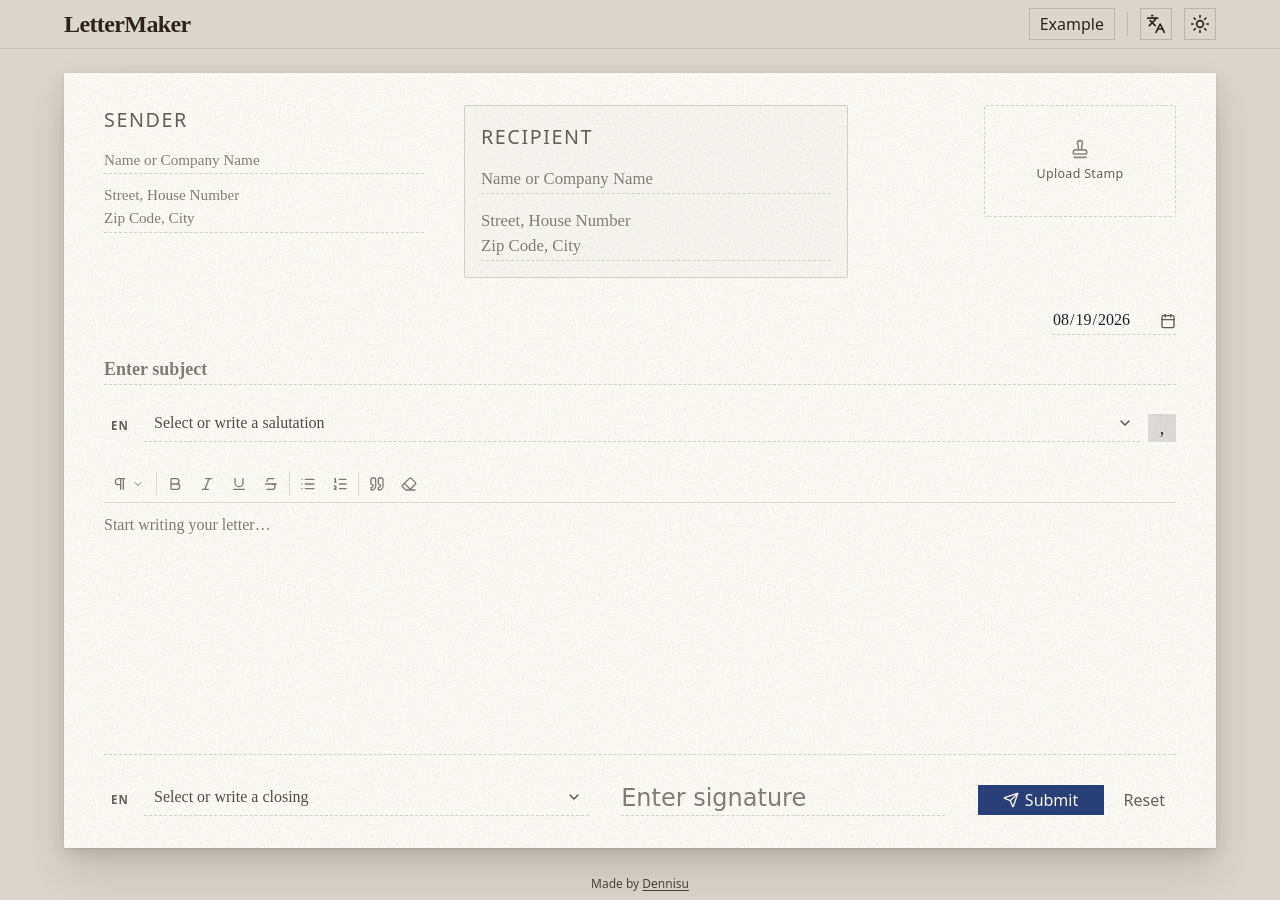
LetterMaker › fills and resets the complete example letter
What coordinates should you click on to do the following:
click the button "Example"
I would click on:
 (1072, 24)
Its box is 1029,8 -> 1115,40.
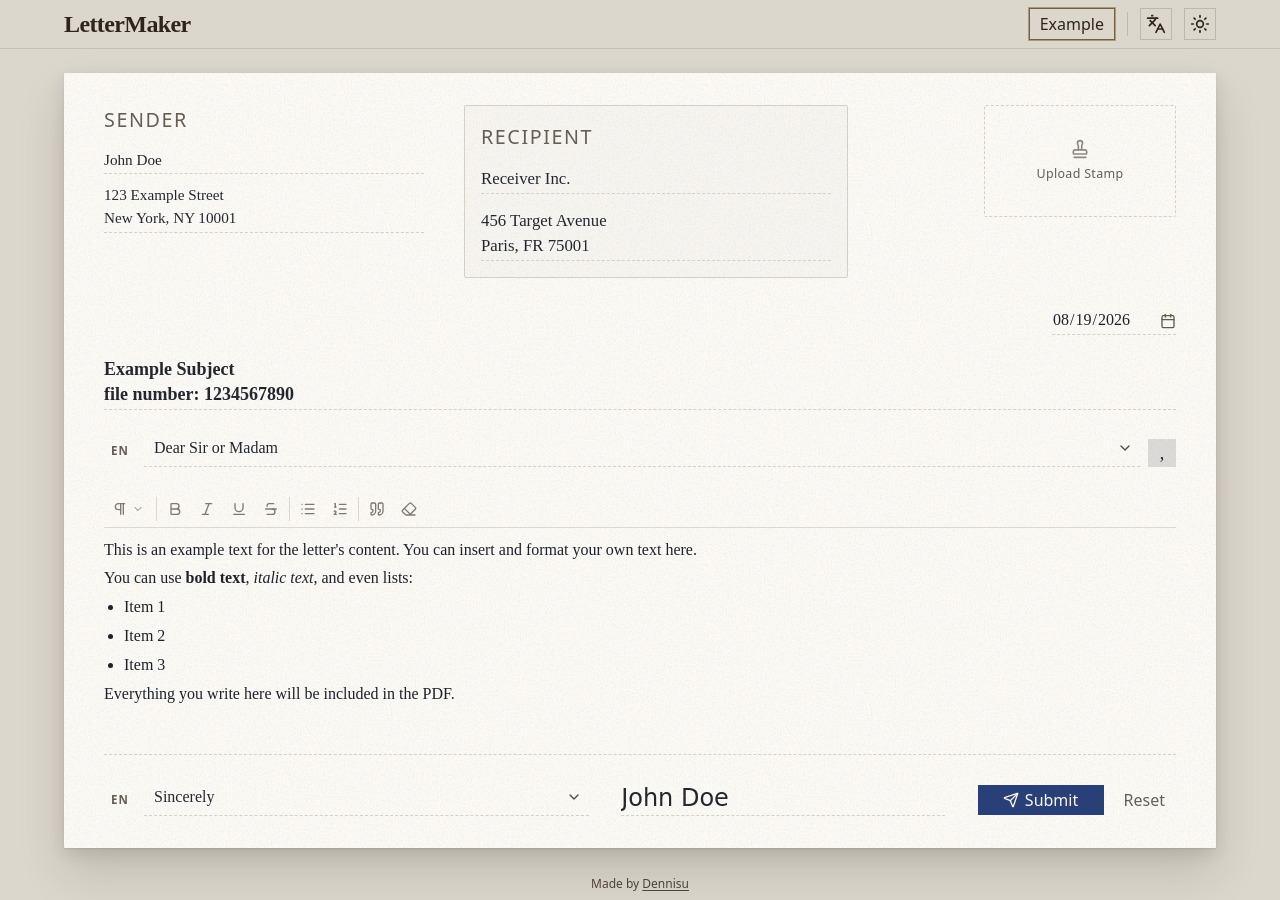
Result: the field named "Name" below "Recipient" holds "Receiver Inc." at 481,164 -> 831,194
Result: the field named "Letter content" shows "This is an example text" at 104,541 -> 697,702
What coordinates should you click on to do the following:
click the button "Reset"
I would click on:
 (1144, 800)
Its box is 1112,784 -> 1176,816.
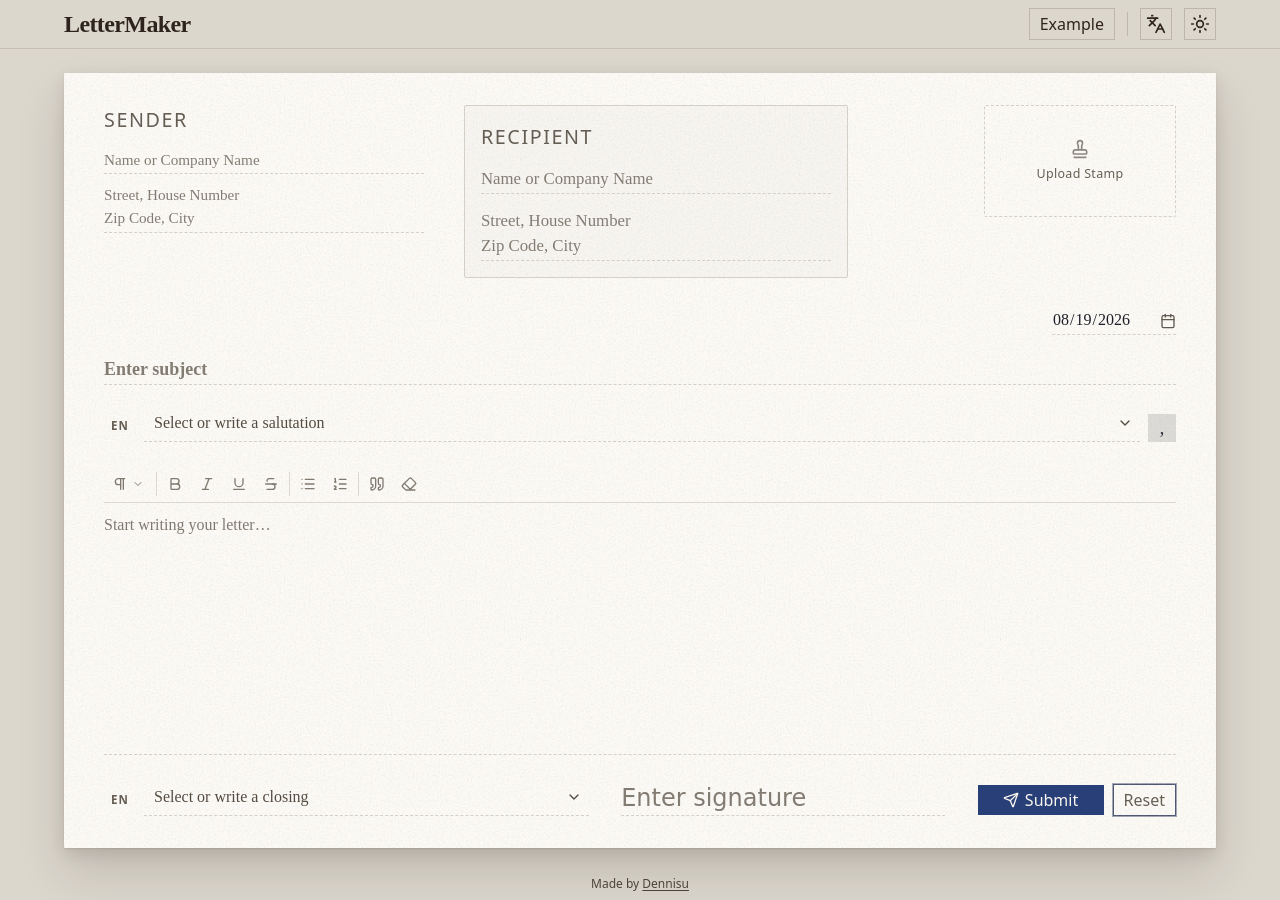
Result: the field labelled "Name or Company Name" below "Recipient" is empty at 481,164 -> 831,194
Result: the text box named "Subject *" is empty at 104,355 -> 1176,385
Result: the field named "Letter content" is empty at 104,503 -> 1176,754
